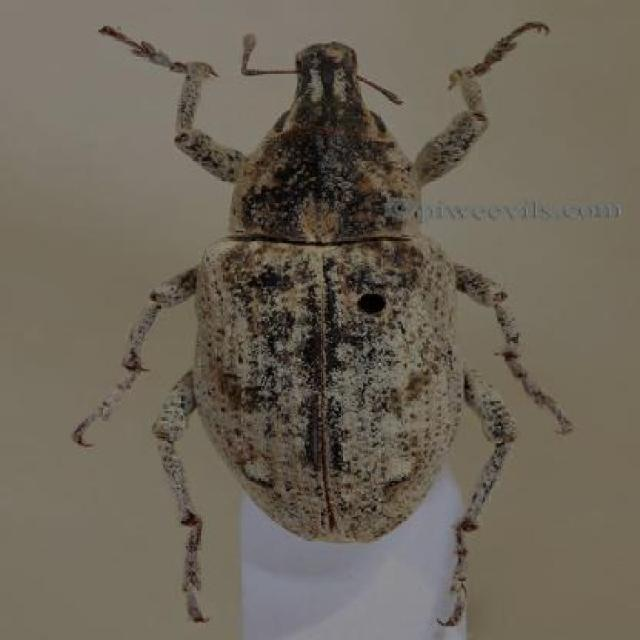rice-bug: (119, 18, 553, 622)
